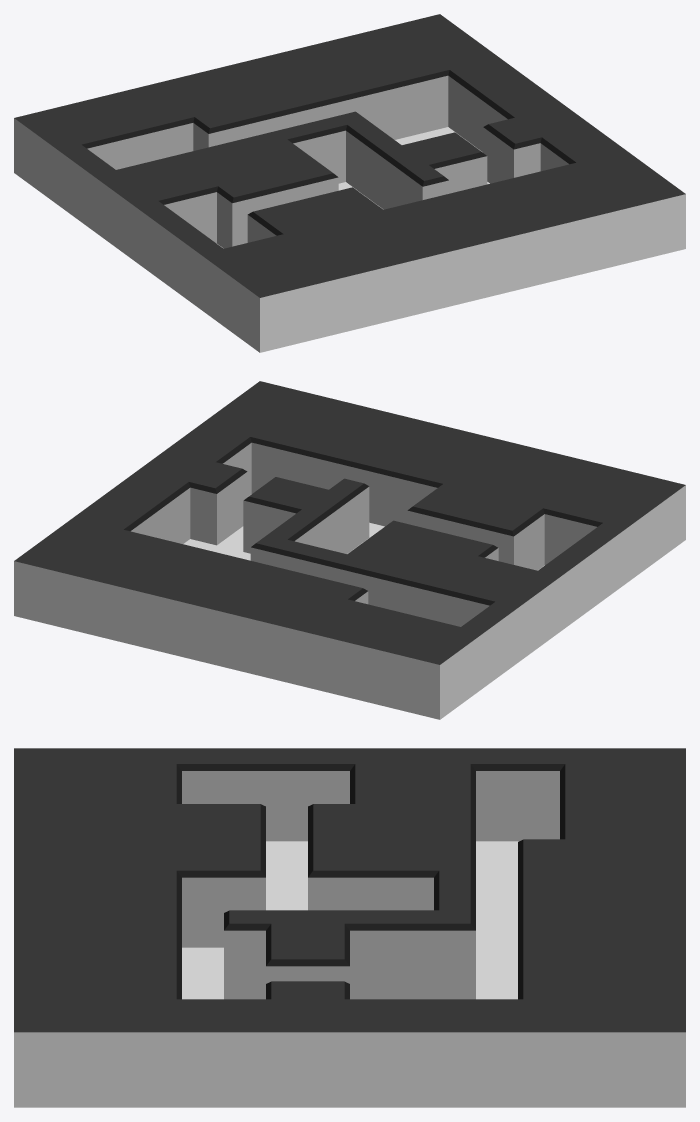
The model's file is GGJ2021_LAF_1LEVEL.fbx.
3 views of the same model, one above another, from view 1: azimuth 30°, elevation 25°; view 2: azimuth 150°, elevation 25°; view 3: azimuth 270°, elevation 25° (orthographic). The views are drawn at different scales.
Parts seen in each view (by area): view 1: lvl1Baby; view 2: lvl1Baby; view 3: lvl1Baby.
Boxes of the visible parts, box(x1,y1,x2,y2) form: lvl1Baby: box(14, 14, 685, 352); lvl1Baby: box(14, 381, 685, 719); lvl1Baby: box(14, 748, 685, 1107).
Size of the model in its own units: 2436 by 300 by 2436.
